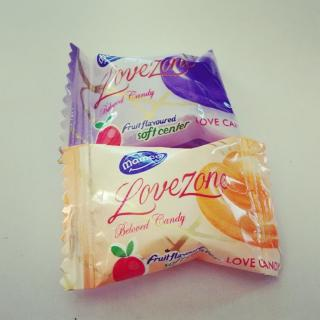Apple: (111, 240, 143, 282), (93, 115, 123, 147)
